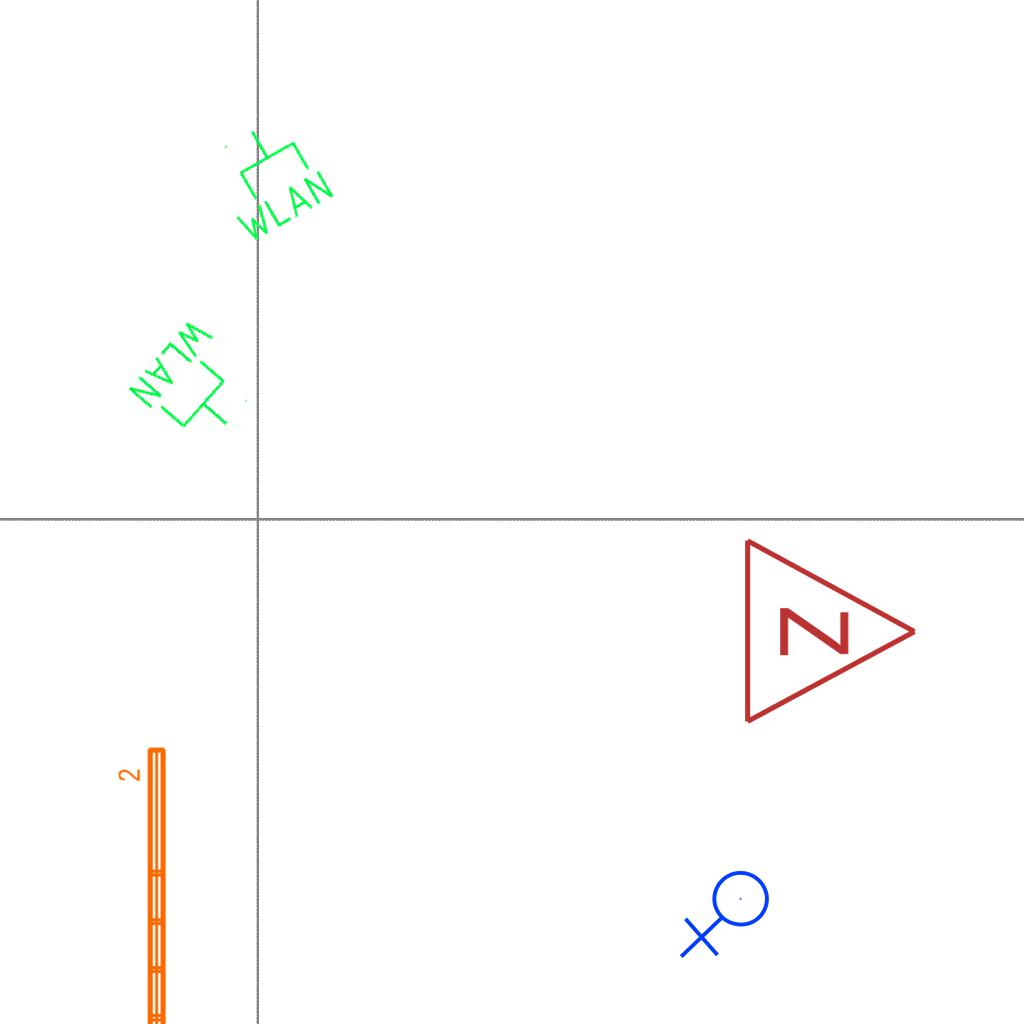Ambulanz_Pendelleuchte_LED: (116, 743, 172, 1024)
Elektroanschluss_allgemein_230V_Geraeteanschlussdose_230V: (679, 869, 778, 963)
WLAN: (122, 310, 270, 459), (196, 107, 340, 250)
Zimmersignalleuchte: (730, 531, 930, 727)
